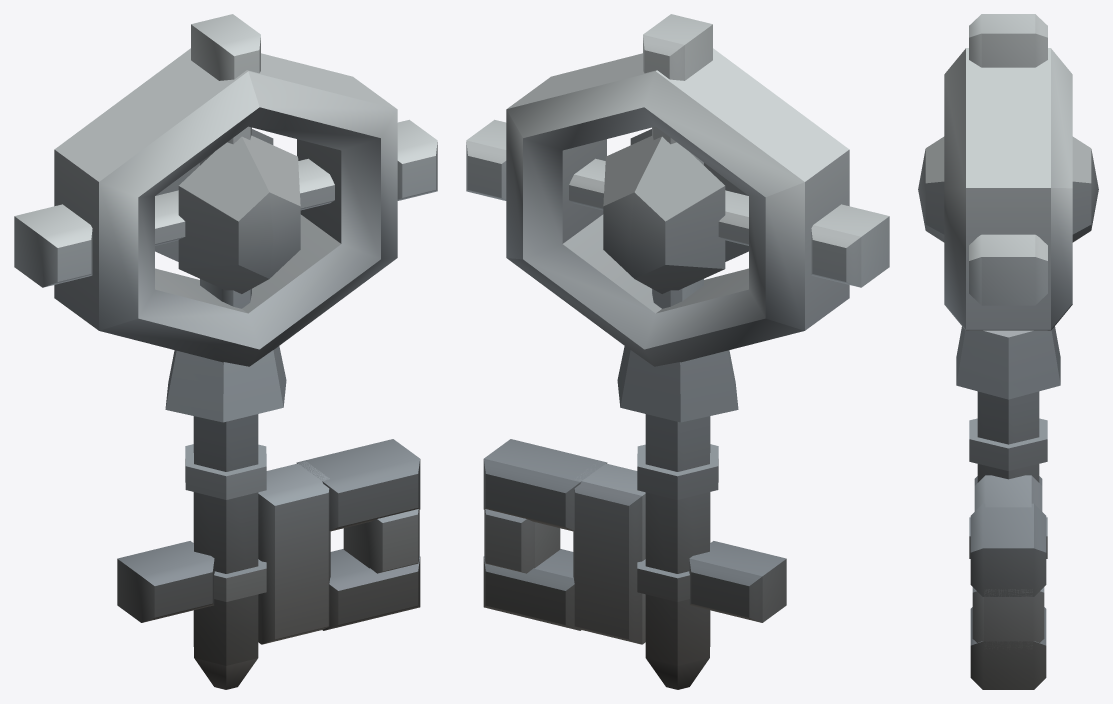
File: key_arcane_crystal.glb
The picture shows the model from 3 angles, left to right: view 1: azimuth 30°, elevation 25°; view 2: azimuth 150°, elevation 25°; view 3: azimuth 270°, elevation 25°; orthographic projection. The views are drawn at different scales.
Parts seen in each view (by area): view 1: Item; view 2: Item; view 3: Item.
Boxes of the visible parts, x1,y1,x2,y2 form: Item: (14,14,437,689); Item: (466,14,889,689); Item: (918,14,1098,689).
Bounding box in the file's own units: 0.48 × 0.76 × 0.2.
1 material, 1 textured.
